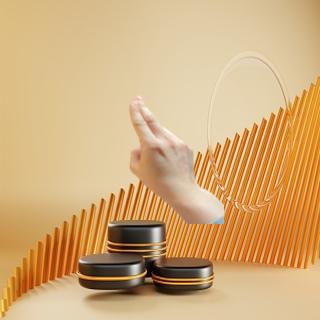DHAVE: (123, 89, 201, 196)
